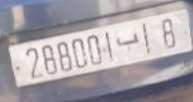0: (71, 37, 88, 70), (86, 32, 102, 67)
2: (24, 48, 44, 79)
8: (56, 40, 73, 73), (41, 43, 56, 77), (162, 16, 176, 49)
b: (116, 28, 141, 53)
